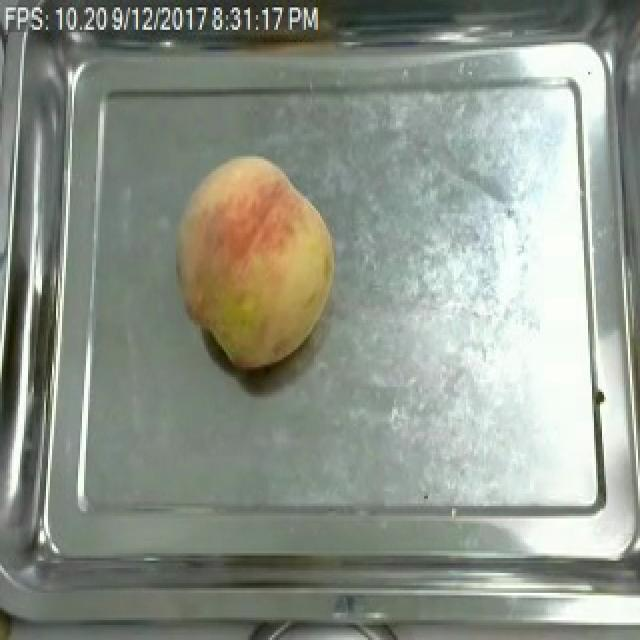Fruit: (170, 151, 344, 375)
